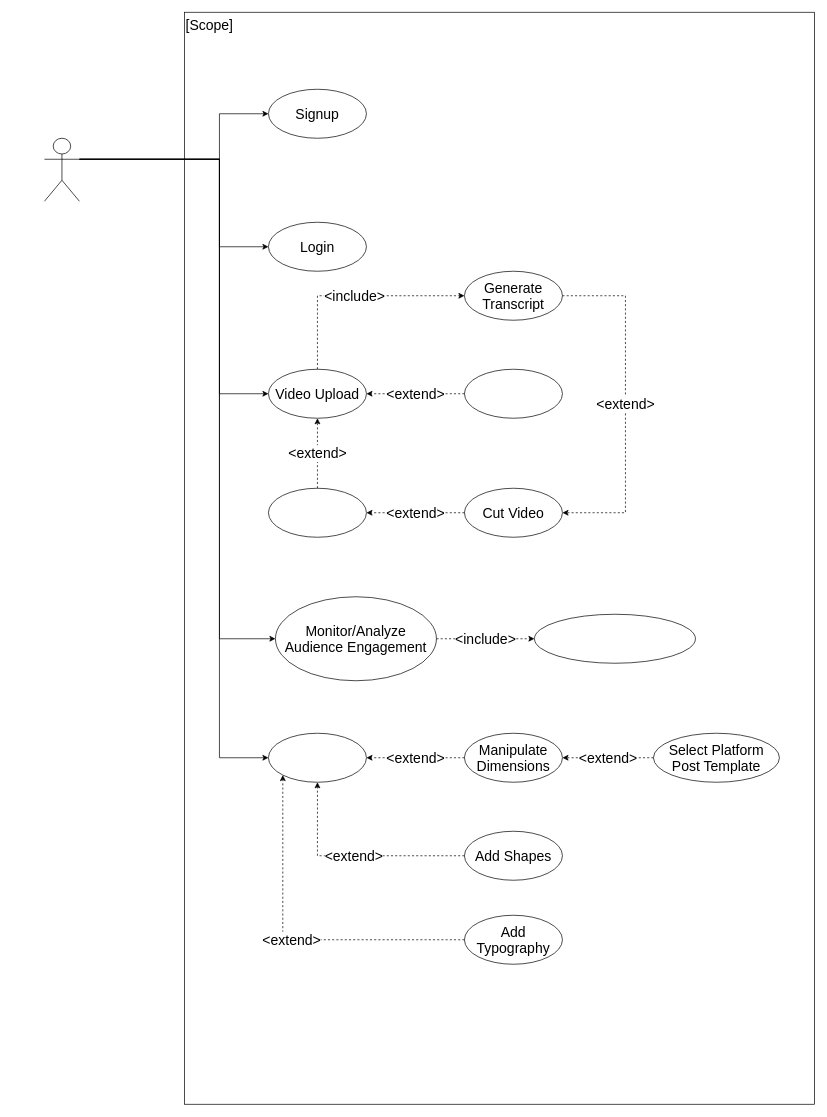
Image size: 827x1117. Some labels were removed from this diagram. Here are the shapes that lost their labels. From the top down, the centre of each, then its label:
the point at 61,169: Content Creator
the point at 513,393: Generate Thumbnail
the point at 317,512: Edit Video
the point at 614,638: Fetch Posts/Videos Analytical Data
the point at 317,757: Image Upload
